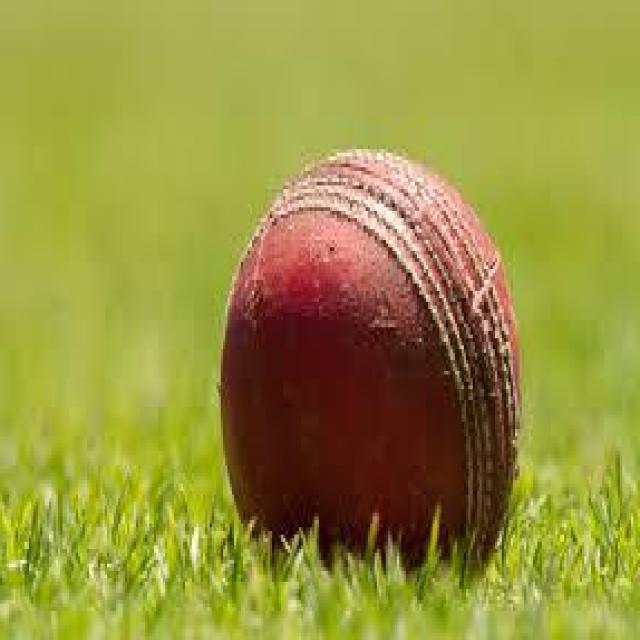ball: (218, 149, 522, 586)
